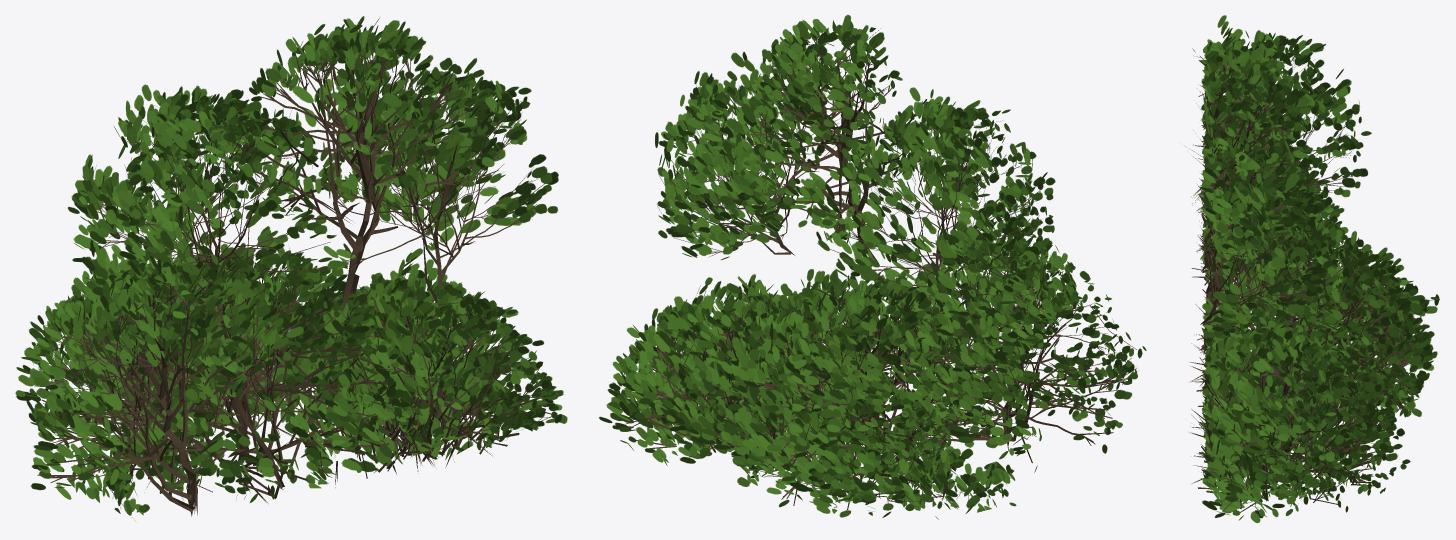
The picture shows the model from 3 angles, left to right: view 1: azimuth 30°, elevation 25°; view 2: azimuth 150°, elevation 25°; view 3: azimuth 270°, elevation 25°; orthographic projection. The views are drawn at different scales.
Parts seen in each view (by area): view 1: oak 01.001_trunk_Mat.001_0.224; view 2: oak 01.001_trunk_Mat.001_0.224; view 3: oak 01.001_trunk_Mat.001_0.224.
Part boxes in pixels (x1,y1,x2,y2): oak 01.001_trunk_Mat.001_0.224: (15,16,567,517); oak 01.001_trunk_Mat.001_0.224: (598,14,1146,519); oak 01.001_trunk_Mat.001_0.224: (1185,15,1439,522).
Bounding box in the file's own units: 5.76 × 4.61 × 2.71.
Materials: 2 (1 with a texture image).
